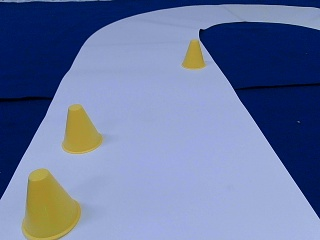cone: (22, 170, 81, 238), (62, 105, 103, 152), (181, 40, 205, 69)
